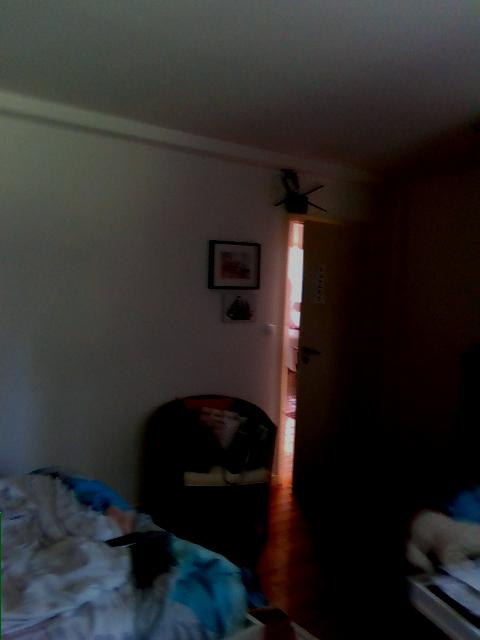semi_door: (271, 210, 370, 489)
